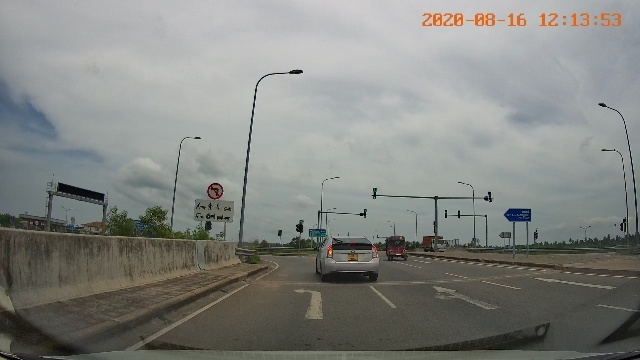LA: (293, 287, 324, 319)
SA: (528, 277, 618, 289)
SLA: (430, 284, 501, 309)
